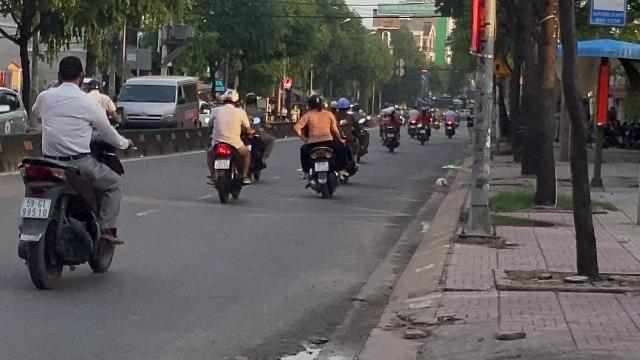helmet: (307, 95, 325, 111), (222, 89, 238, 105)
licenseplate: (20, 197, 50, 217), (214, 160, 230, 168), (316, 162, 328, 172)
motorcyclist: (13, 53, 129, 289), (294, 93, 358, 198), (202, 82, 252, 202)
nohelmet: (54, 54, 86, 86)
